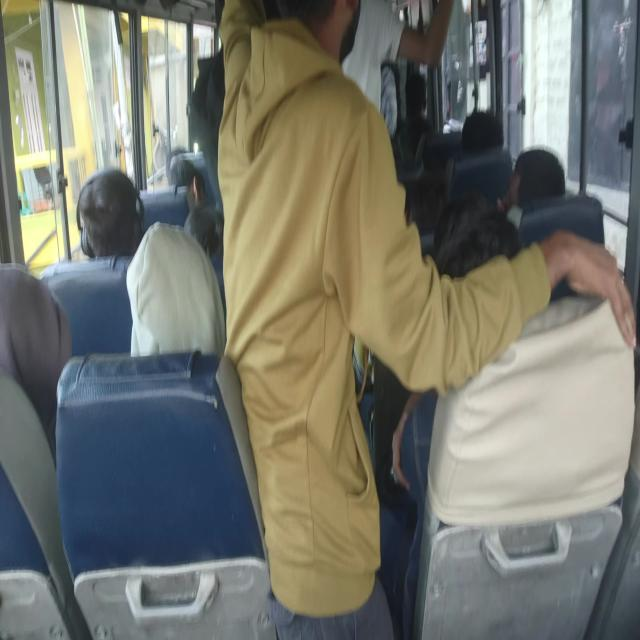person: (215, 0, 636, 638), (339, 0, 455, 135), (126, 220, 227, 357), (76, 166, 144, 259), (170, 154, 224, 260), (497, 146, 566, 220)
